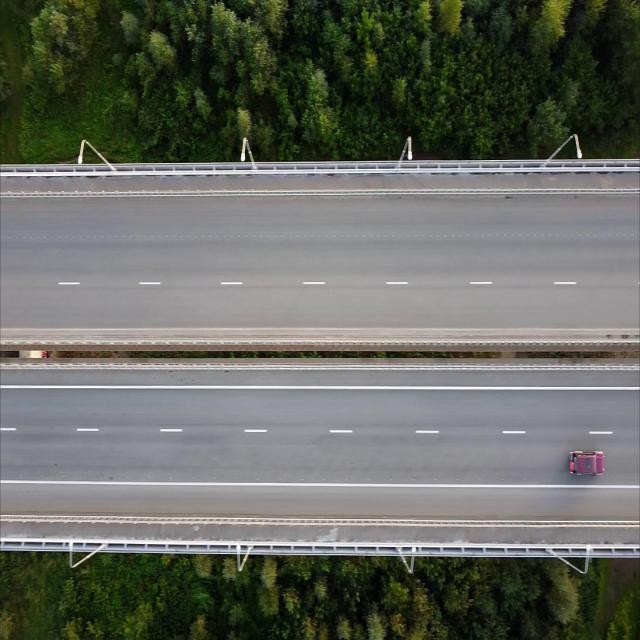Car: (569, 450, 605, 478)
